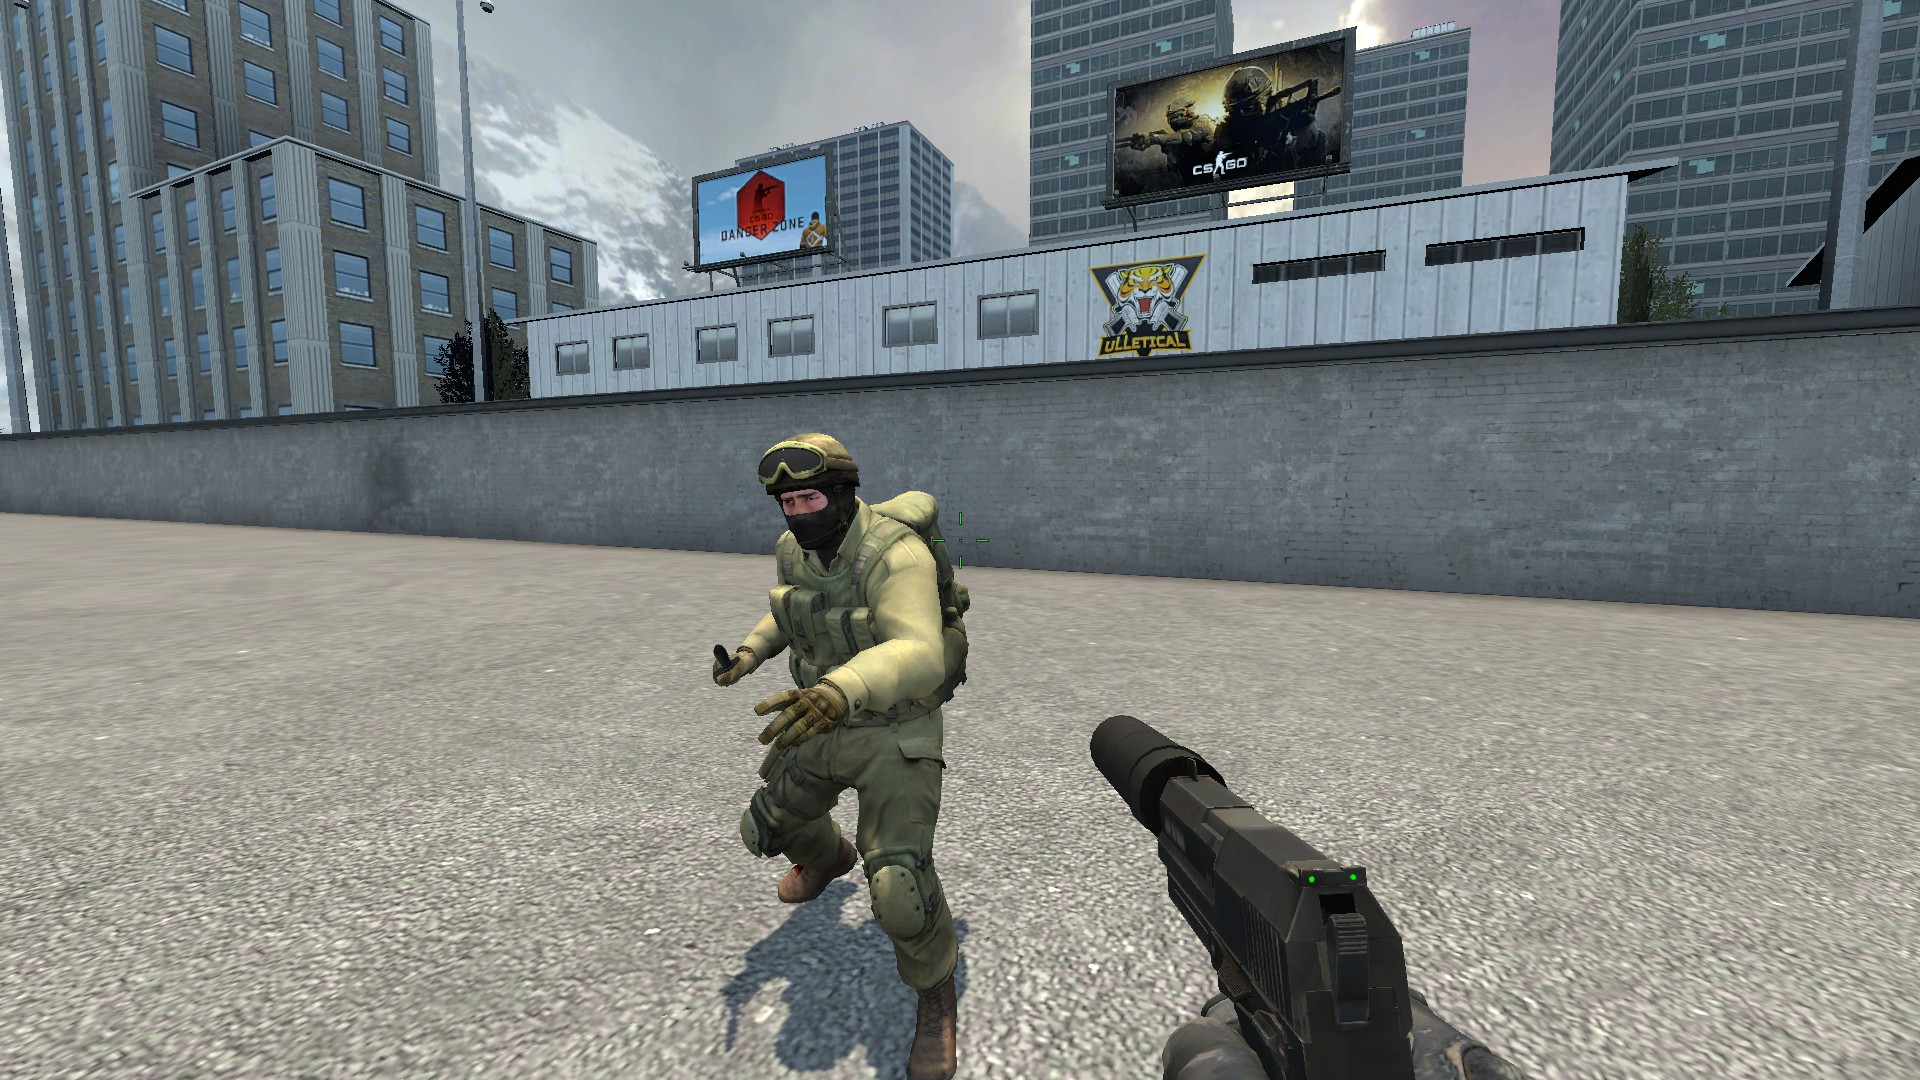ct: (700, 429, 978, 1080)
ct head: (746, 425, 872, 556)
